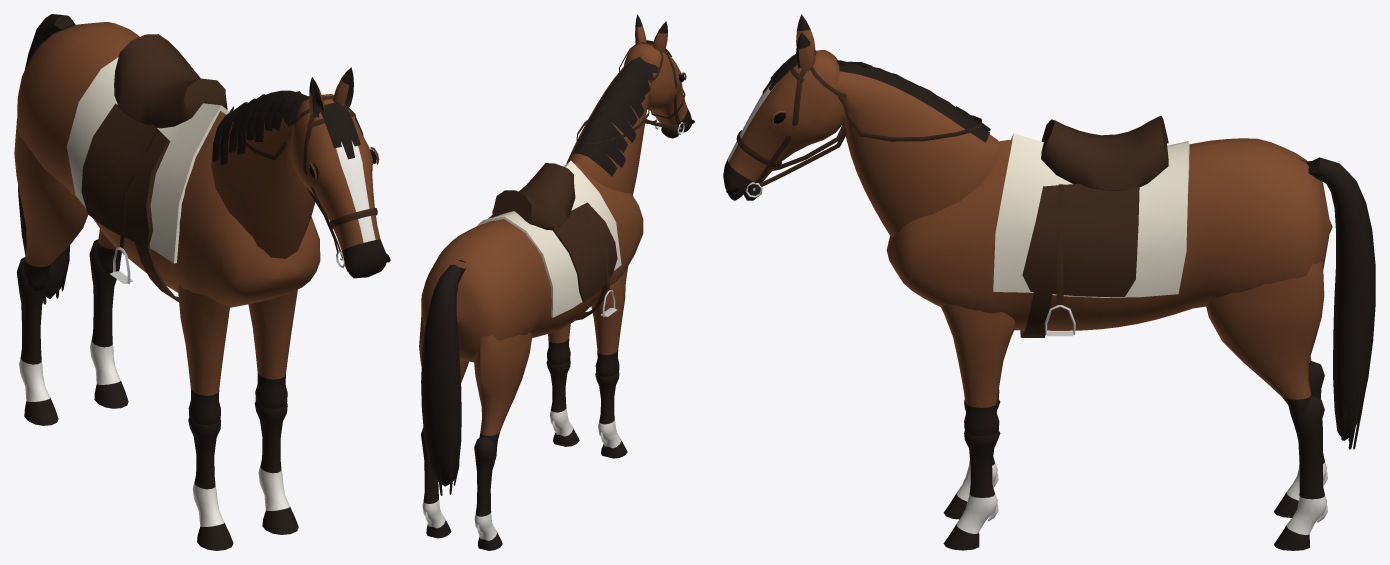
The model's file is horse.glb.
3 renders of one model, left to right at view 1: azimuth 30°, elevation 25°; view 2: azimuth 150°, elevation 25°; view 3: azimuth 270°, elevation 25°, orthographic. The views are drawn at different scales.
Parts seen in each view (by area): view 1: Tack, Body, Neck, Head, Leg_BR, Leg_FR, Leg_FL, Shin_BL, Shin_BR, Shin_FL, Shin_FR, Tail (+2 smaller); view 2: Body, Tack, Tail, Neck, Leg_BR, Head, Leg_FR, Shin_BR, Shin_FL, Shin_FR, Shin_BL, Leg_FL (+1 smaller); view 3: Body, Tack, Neck, Tail, Leg_BL, Head, Leg_FL, Shin_BL, Shin_FL, Reins, Shin_BR, Shin_FR.
Part boxes in pixels (bbox=[...]): Tack: bbox=[66, 34, 229, 301]; Body: bbox=[17, 22, 320, 307]; Neck: bbox=[211, 90, 315, 258]; Head: bbox=[287, 94, 390, 278]; Leg_BR: bbox=[14, 119, 87, 290]; Leg_FR: bbox=[178, 284, 229, 424]; Leg_FL: bbox=[248, 289, 297, 408]; Shin_BL: bbox=[89, 239, 128, 408]; Shin_BR: bbox=[16, 257, 58, 425]; Shin_FL: bbox=[254, 401, 298, 534]; Shin_FR: bbox=[188, 417, 233, 550]; Tail: bbox=[18, 14, 75, 304]; Body: bbox=[421, 162, 643, 362]; Tack: bbox=[476, 160, 621, 320]; Tail: bbox=[421, 260, 466, 495]; Neck: bbox=[566, 57, 659, 195]; Leg_BR: bbox=[474, 332, 532, 446]; Head: bbox=[619, 40, 694, 138]; Leg_FR: bbox=[591, 266, 628, 376]; Shin_BR: bbox=[474, 436, 502, 550]; Shin_FL: bbox=[546, 359, 579, 446]; Shin_FR: bbox=[595, 371, 627, 458]; Shin_BL: bbox=[421, 427, 451, 538]; Leg_FL: bbox=[547, 324, 570, 364]; Body: bbox=[886, 138, 1332, 330]; Tack: bbox=[993, 115, 1189, 337]; Neck: bbox=[836, 60, 998, 238]; Tail: bbox=[1299, 157, 1375, 449]; Leg_BL: bbox=[1206, 261, 1324, 423]; Head: bbox=[723, 49, 846, 200]; Leg_FL: bbox=[941, 305, 1015, 436]; Shin_BL: bbox=[1274, 395, 1327, 550]; Shin_FL: bbox=[943, 430, 1000, 550]; Reins: bbox=[759, 112, 981, 186]; Shin_BR: bbox=[1274, 361, 1327, 517]; Shin_FR: bbox=[943, 399, 1000, 519].
Bounding box in the file's own units: 0.6951 × 2.14 × 2.51.
